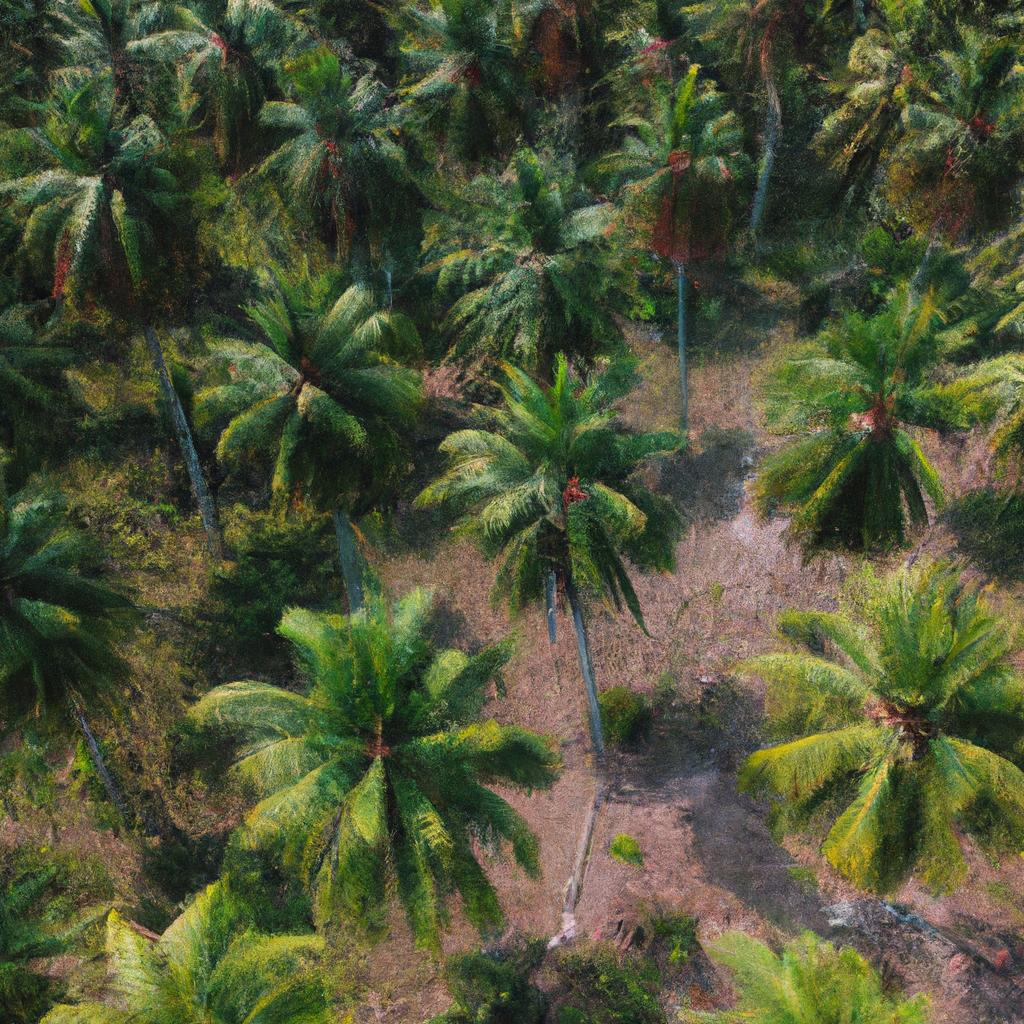coconut_tree: (176, 550, 559, 945), (739, 558, 1023, 907), (725, 250, 1022, 545), (419, 346, 700, 617), (181, 250, 471, 493), (425, 157, 692, 346)
